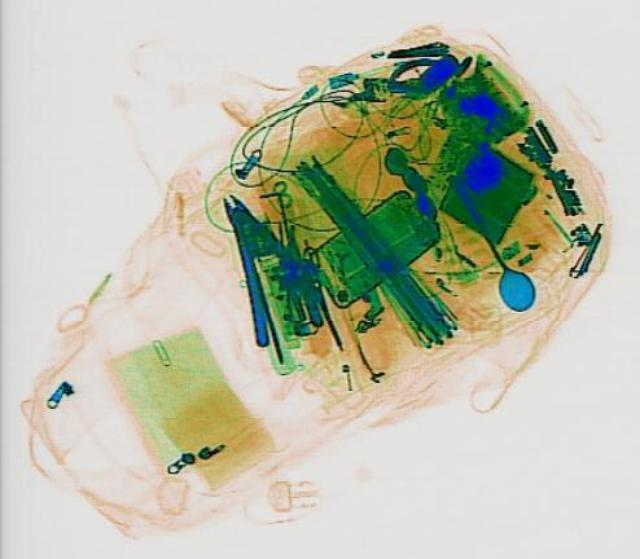Pliers: (182, 180, 342, 347)
